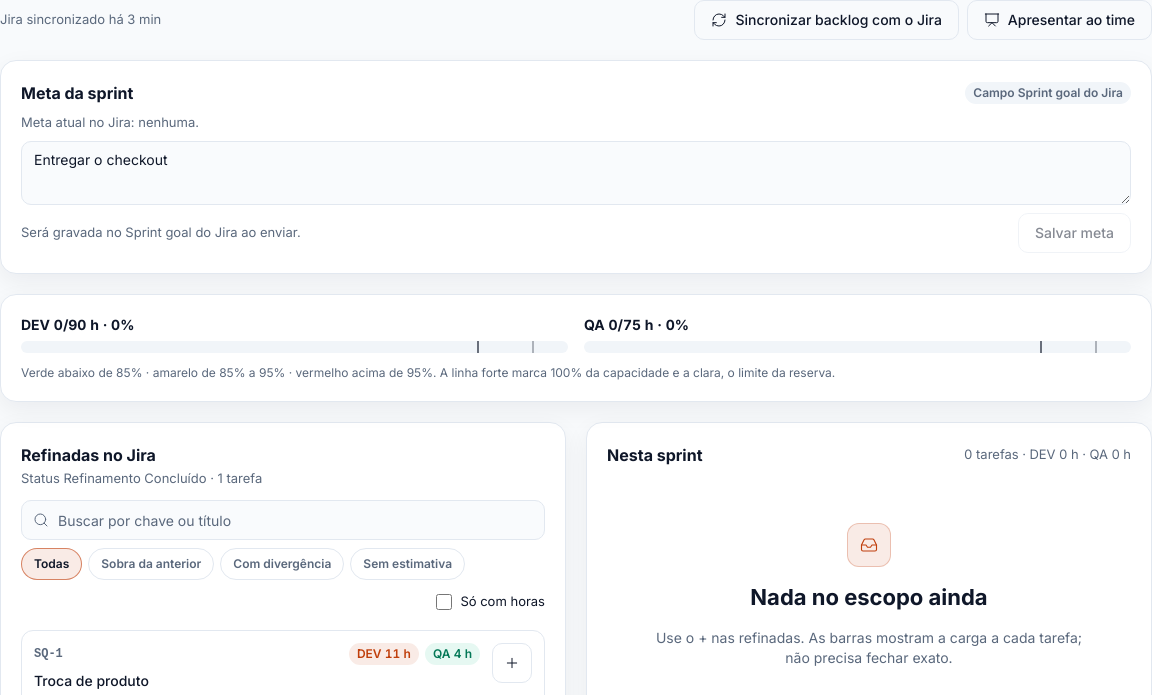
Escopo: sincronizar o backlog › 409 avisa que já há sincronização em andamento
This screenshot has width=1152, height=695.
Click the button "Sincronizar backlog com o Jira" at coordinates (827, 20), box x1=694 y1=0 x2=959 y2=40
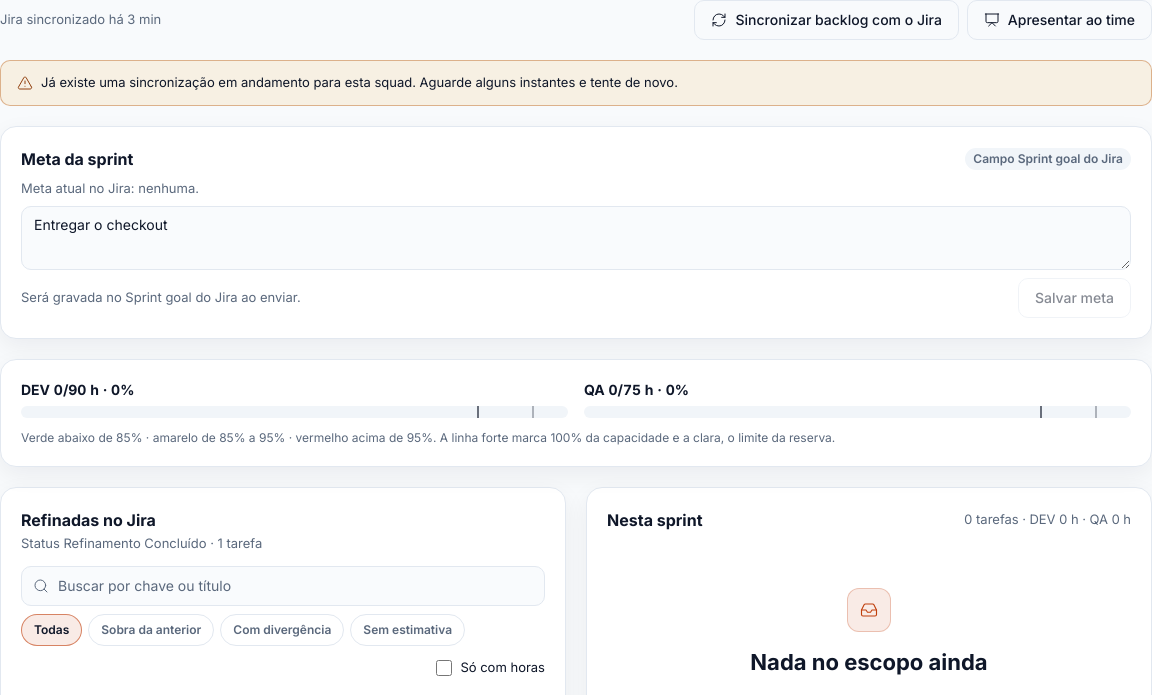
Now the message with test id "escopo-sync-aviso" shows "sincronização em andamento", box x1=41 y1=74 x2=678 y2=90
